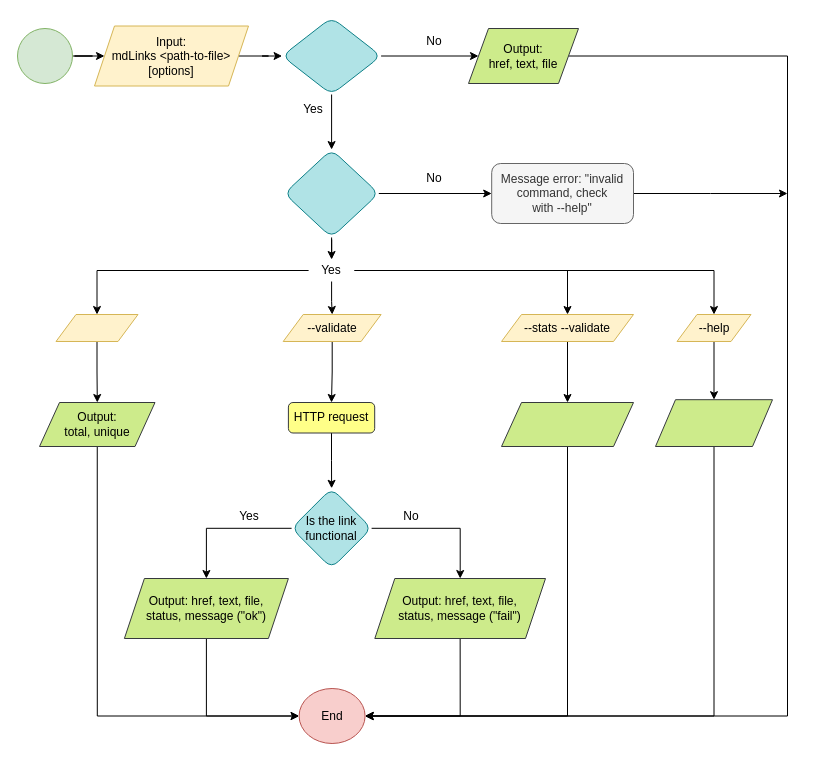
Image size: 813x761. Some labels were removed from this diagram. Each missing label, with the box of its shape:
--stats: (55, 314, 138, 342)
Does it includes options?: (281, 16, 381, 94)
Is the option valid?: (283, 148, 379, 238)
Output: command list: (654, 399, 772, 446)
Output: total, unique, broken: (500, 402, 634, 446)
Start: (16, 28, 72, 84)
